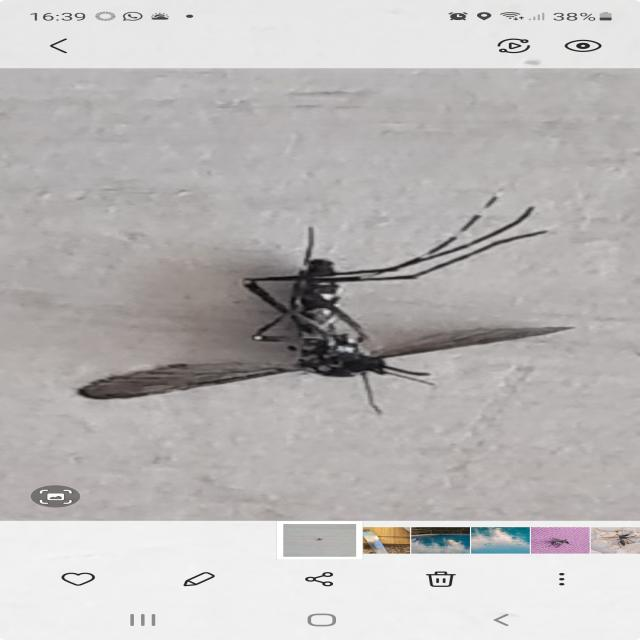albopictus: (85, 183, 574, 429)
